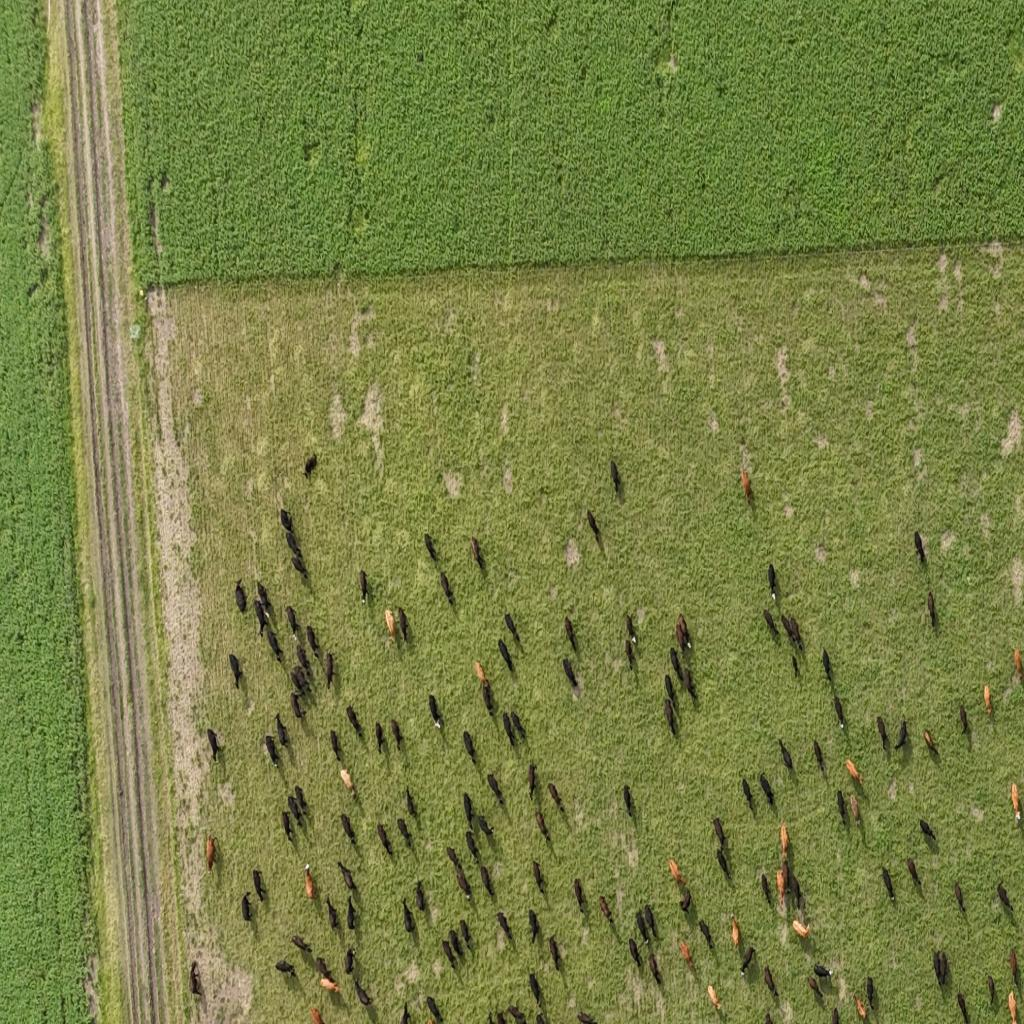cow: (832, 775, 856, 837), (264, 718, 294, 766), (740, 464, 761, 517), (508, 702, 533, 739), (393, 604, 415, 646), (606, 446, 625, 492), (854, 981, 874, 1024), (500, 708, 518, 755), (289, 540, 308, 584), (389, 714, 408, 757), (458, 916, 480, 952), (439, 937, 460, 974), (380, 594, 396, 640), (561, 654, 579, 693), (761, 769, 775, 818), (253, 598, 270, 637), (284, 529, 304, 562), (353, 976, 373, 1008), (266, 628, 284, 663), (504, 612, 521, 649), (676, 614, 692, 652), (290, 666, 309, 698), (1006, 946, 1022, 984), (470, 537, 486, 574), (207, 727, 223, 763), (498, 638, 514, 674), (294, 643, 310, 679), (716, 846, 731, 884), (302, 451, 322, 479), (338, 862, 356, 893), (997, 882, 1013, 916), (255, 581, 271, 615), (496, 910, 512, 944), (378, 824, 394, 858), (439, 570, 454, 606), (487, 774, 505, 804), (1005, 984, 1020, 1020), (846, 758, 864, 788), (450, 922, 465, 958), (683, 668, 697, 706), (670, 647, 684, 685), (933, 949, 947, 987), (665, 698, 678, 738), (587, 509, 601, 546), (428, 694, 442, 731), (338, 766, 354, 798), (346, 706, 362, 738), (548, 782, 564, 814), (340, 813, 356, 845), (906, 856, 922, 888), (446, 846, 462, 878), (535, 808, 550, 842), (778, 740, 793, 774), (739, 945, 754, 979), (528, 970, 541, 1009), (647, 949, 661, 985), (764, 964, 778, 1000), (480, 864, 494, 900), (229, 652, 242, 690), (548, 934, 561, 972), (742, 778, 755, 816), (1010, 647, 1022, 688), (465, 827, 479, 862), (476, 813, 494, 840), (189, 961, 202, 998), (629, 937, 642, 974), (644, 904, 657, 941), (320, 973, 340, 997), (763, 608, 779, 638), (808, 972, 824, 1002), (455, 866, 470, 898), (1010, 777, 1022, 817), (462, 730, 476, 764), (712, 817, 726, 851), (699, 918, 713, 952), (288, 793, 302, 827), (294, 785, 308, 818), (777, 868, 787, 914), (625, 613, 637, 651), (304, 863, 316, 901), (792, 617, 804, 655), (253, 868, 266, 903), (532, 860, 545, 895), (669, 856, 684, 886), (397, 817, 412, 847), (599, 895, 613, 927), (622, 784, 634, 821), (565, 616, 577, 653), (526, 762, 538, 799), (882, 866, 894, 903), (812, 739, 824, 776), (895, 718, 908, 752), (414, 881, 427, 915), (275, 960, 297, 980), (292, 691, 306, 722), (680, 940, 694, 971), (833, 695, 845, 731), (528, 908, 540, 944), (403, 900, 415, 936), (877, 716, 889, 752), (482, 680, 494, 716), (327, 896, 339, 932), (464, 792, 476, 828), (665, 670, 677, 706), (636, 910, 648, 946), (234, 581, 247, 614), (792, 867, 801, 914), (424, 532, 438, 562), (206, 832, 216, 874), (708, 983, 722, 1013), (920, 819, 936, 845), (953, 882, 966, 914), (285, 605, 298, 637), (426, 996, 442, 1022), (914, 531, 926, 565), (573, 878, 585, 912), (324, 650, 334, 690), (292, 935, 312, 955), (241, 892, 253, 925), (406, 786, 418, 819), (306, 623, 318, 656), (474, 660, 488, 688), (957, 991, 969, 1023), (679, 887, 692, 916), (821, 648, 832, 682), (760, 872, 771, 906), (780, 858, 790, 895), (279, 507, 293, 533), (316, 955, 330, 981), (924, 728, 938, 754), (358, 569, 368, 605), (927, 592, 937, 628), (346, 896, 356, 932), (813, 964, 833, 982), (507, 1005, 527, 1023), (730, 914, 740, 950), (768, 562, 777, 601), (282, 810, 292, 845), (626, 636, 636, 671), (793, 919, 810, 939), (958, 705, 968, 738), (330, 730, 340, 762), (374, 722, 384, 753), (780, 823, 789, 857), (309, 1005, 324, 1024), (344, 946, 354, 974), (577, 1010, 596, 1024), (399, 1002, 411, 1024), (984, 684, 992, 716), (988, 974, 996, 1005), (792, 651, 800, 681), (491, 1009, 507, 1024), (1018, 782, 1024, 821), (1018, 648, 1024, 684), (831, 1006, 840, 1024), (764, 1010, 775, 1024), (536, 1012, 548, 1024)
